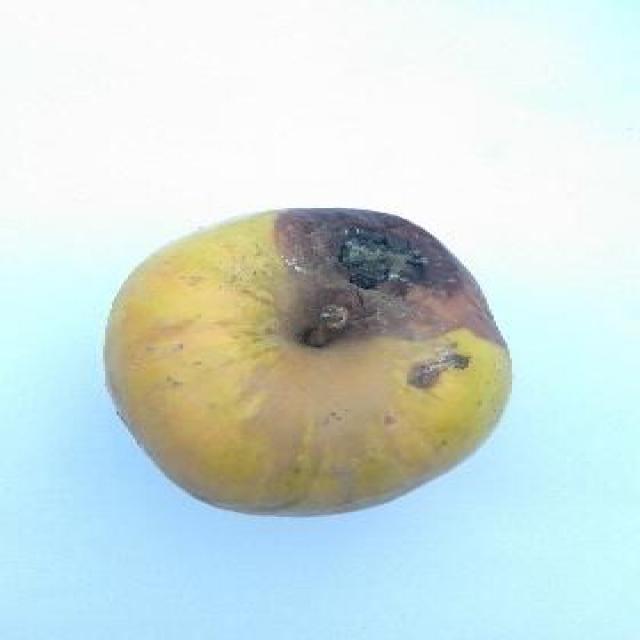Rotten: (130, 203, 500, 503)
